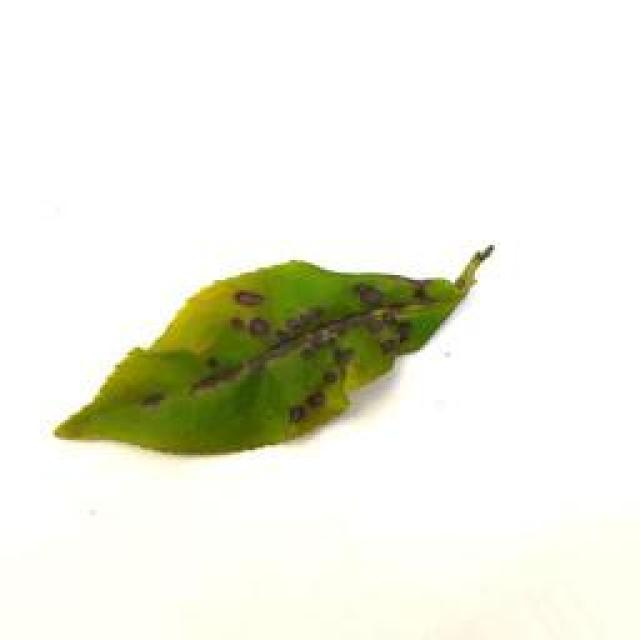Helopeltis: (47, 233, 495, 458)
